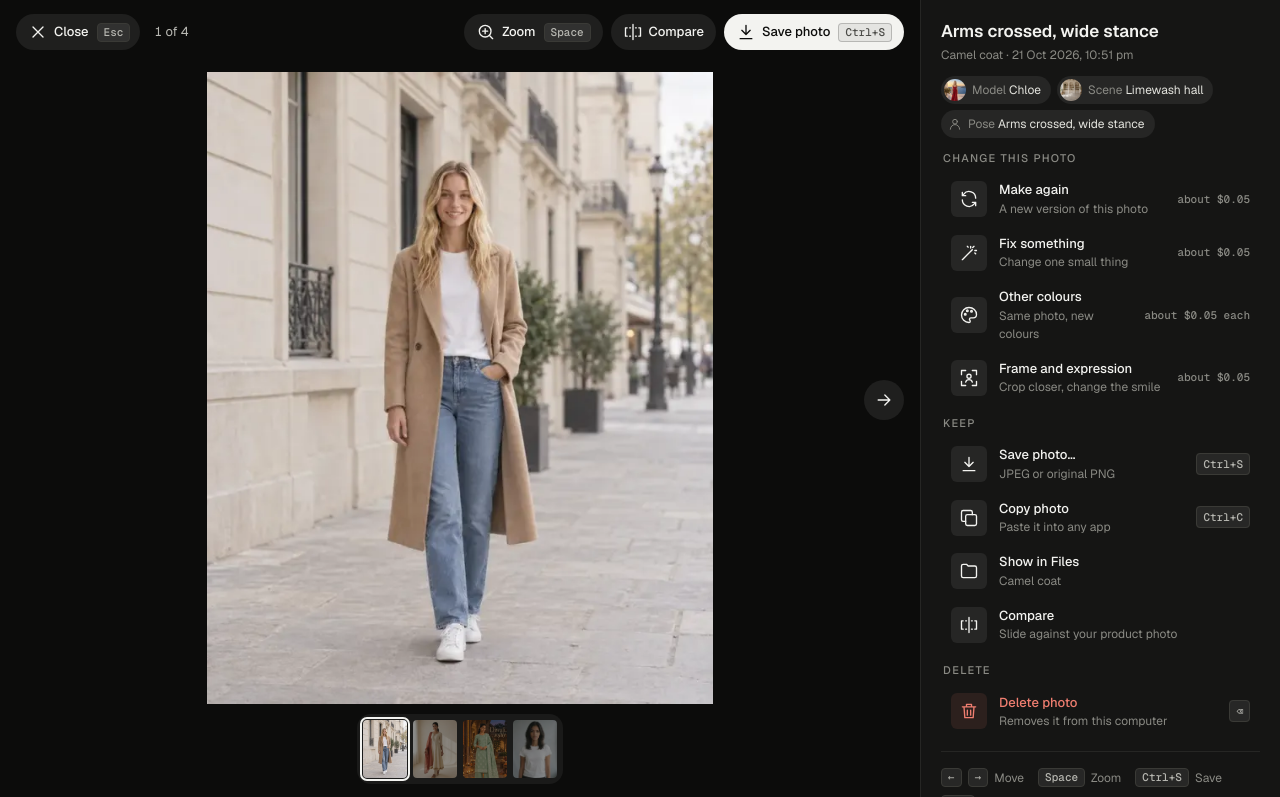
Photo viewer › a change that can't start says why next to the tools, and nothing is queued
Click the button "Make again A new version of this photo about $0.05" at (1100, 199), box top-left (941, 173), bottom-right (1260, 225)
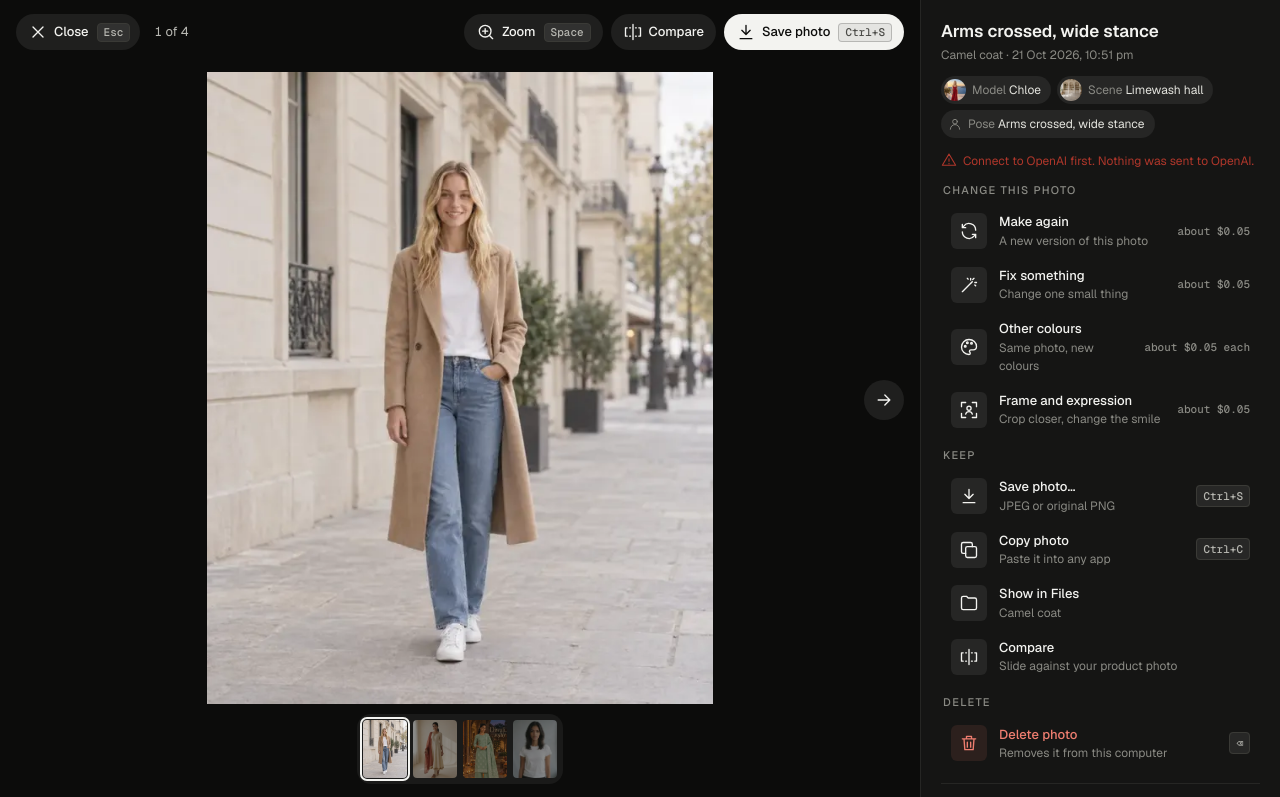
Expected: the text "Connect to OpenAI first. Nothing was sent to OpenAI." is shown, top-left (941, 152), bottom-right (1260, 170)
